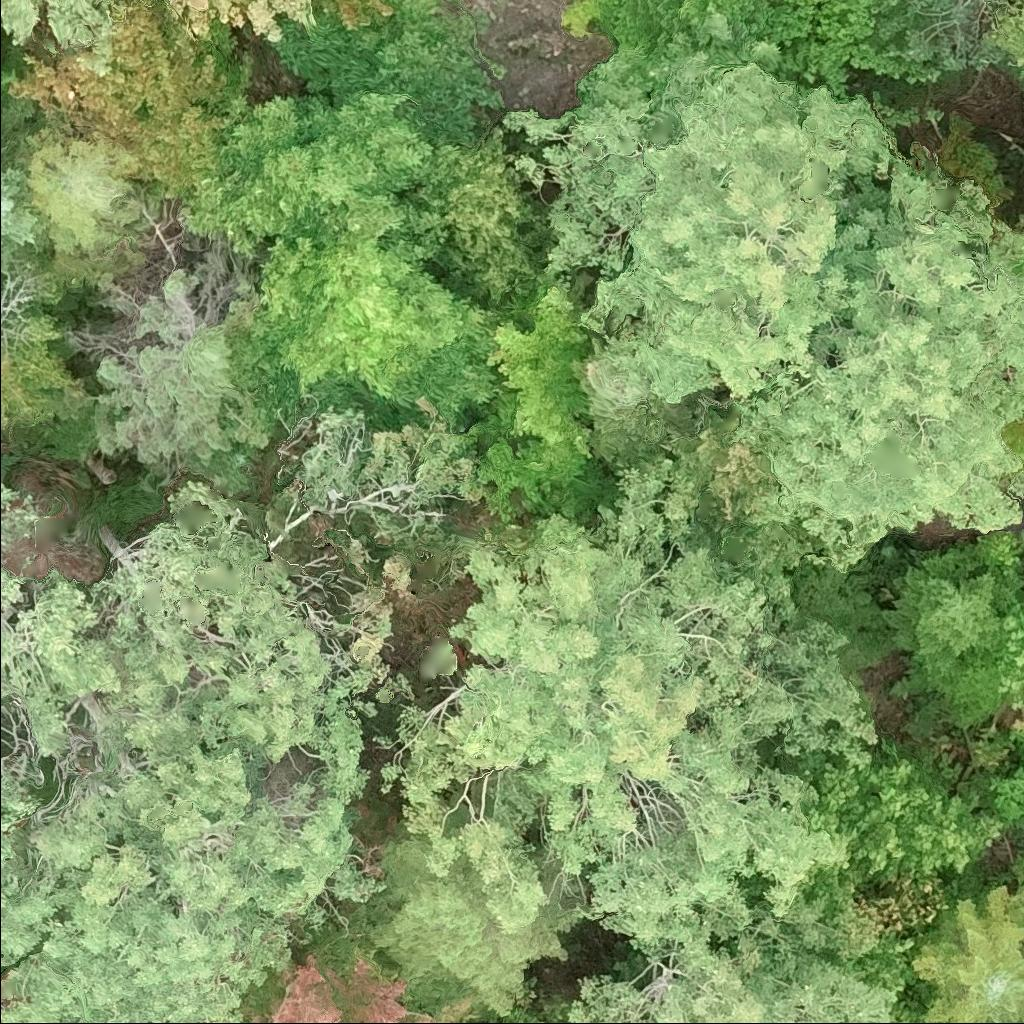crown: (506, 20, 1023, 570), (379, 445, 880, 961), (0, 486, 379, 1023), (179, 96, 449, 264), (14, 0, 241, 195), (233, 253, 500, 413), (375, 840, 584, 1010), (572, 934, 892, 1023), (815, 751, 1003, 890), (336, 0, 497, 147), (780, 874, 938, 1008), (488, 289, 583, 495), (23, 124, 166, 257), (432, 146, 536, 307), (883, 568, 1022, 672), (920, 887, 1023, 1023), (262, 955, 444, 1023), (166, 0, 324, 42), (612, 0, 712, 65), (0, 0, 118, 51), (0, 157, 49, 279), (999, 616, 1023, 698), (992, 766, 1023, 823), (337, 0, 391, 27), (999, 11, 1023, 67), (1010, 419, 1023, 490), (888, 1011, 918, 1023), (1015, 726, 1023, 751)
